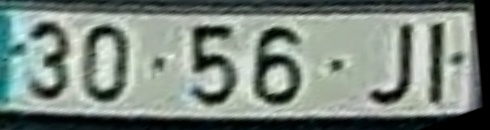0: (79, 21, 133, 105)
3: (24, 19, 74, 102)
5: (187, 24, 242, 107)
6: (249, 23, 309, 108)
I: (424, 20, 450, 106)
J: (365, 20, 418, 107)
